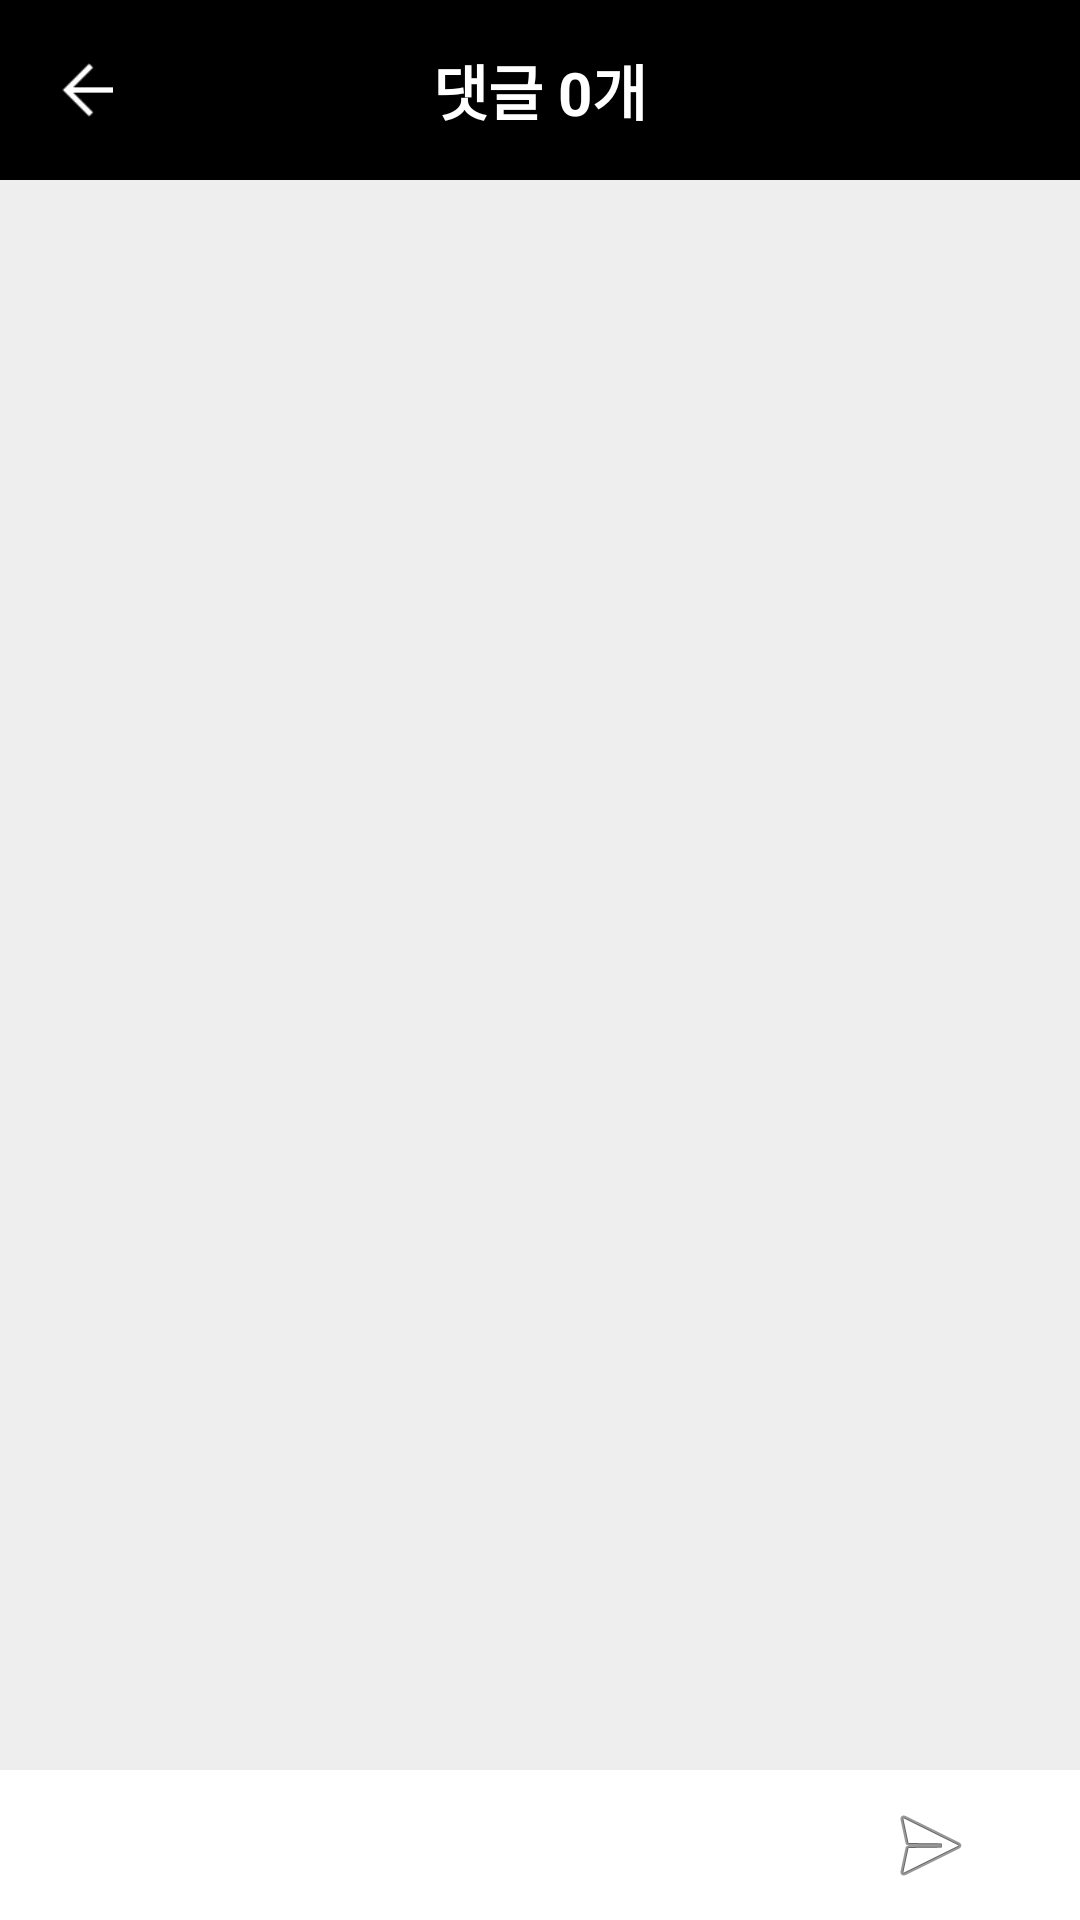

Icons on this 1080x1920 Android screen, each with its box as [x1=x1, y1=y1, x2=x2, y2=y2]:
arrow left: [x1=62, y1=63, x2=113, y2=117]
send: [x1=900, y1=1815, x2=962, y2=1876]
